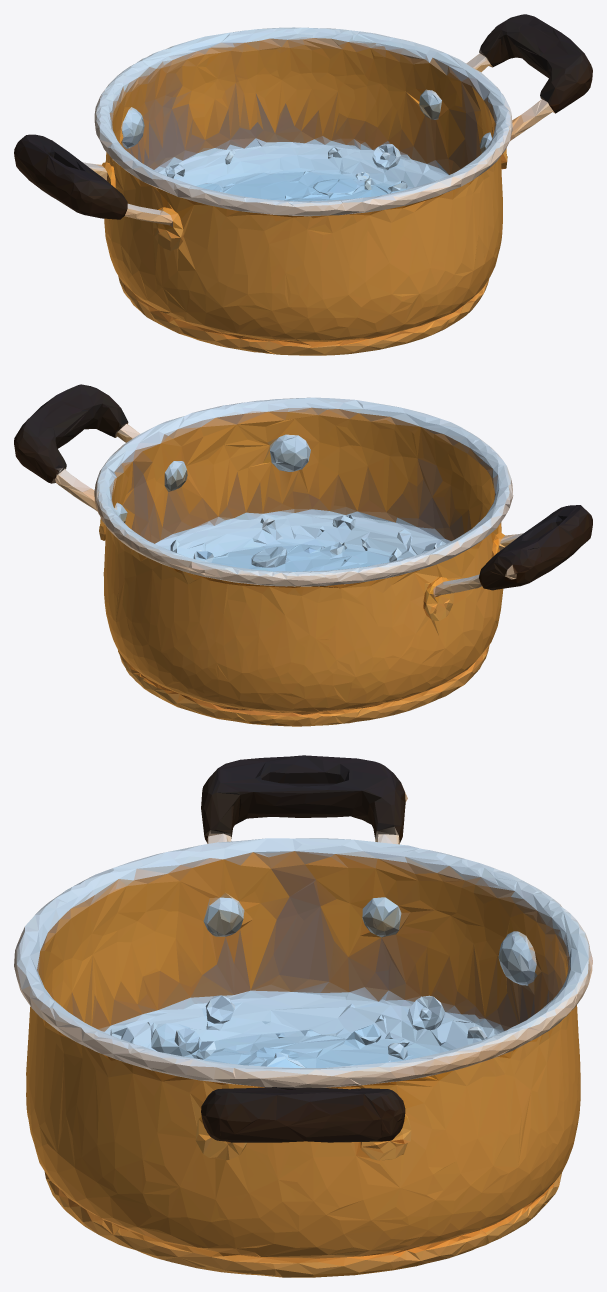
Rendered from pot_boil.glb.
3 renders of one model, top to bottom at view 1: azimuth 30°, elevation 25°; view 2: azimuth 150°, elevation 25°; view 3: azimuth 270°, elevation 25°, orthographic. The views are drawn at different scales.
Visible parts, largest first — view 1: geometry_0; view 2: geometry_0; view 3: geometry_0.
Part boxes in pixels (left/top/right/bottom): geometry_0: left=14, top=14, right=592, bottom=355; geometry_0: left=14, top=384, right=592, bottom=726; geometry_0: left=14, top=755, right=592, bottom=1277.
Bounding box in the file's own units: 0.24 × 0.0818 × 0.1676.
1 material, 1 textured.
